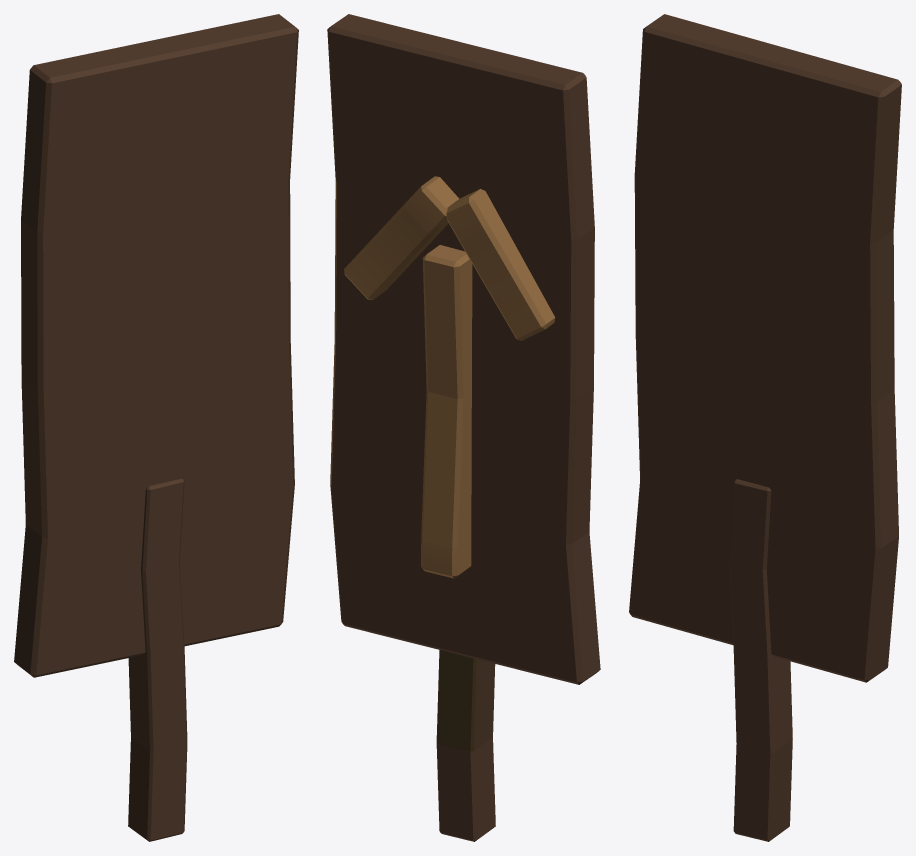
Rendered from SchildOben.fbx.
The picture shows the model from 3 angles, left to right: view 1: azimuth 30°, elevation 25°; view 2: azimuth 150°, elevation 25°; view 3: azimuth 330°, elevation 25°; orthographic projection.
Parts seen in each view (by area): view 1: SchildOben; view 2: SchildOben; view 3: SchildOben.
Part boxes in pixels (bbox=[...]): SchildOben: bbox=[14, 14, 298, 841]; SchildOben: bbox=[327, 14, 600, 841]; SchildOben: bbox=[629, 14, 901, 841].
Size of the model in its own units: 299 by 852 by 80.04.
